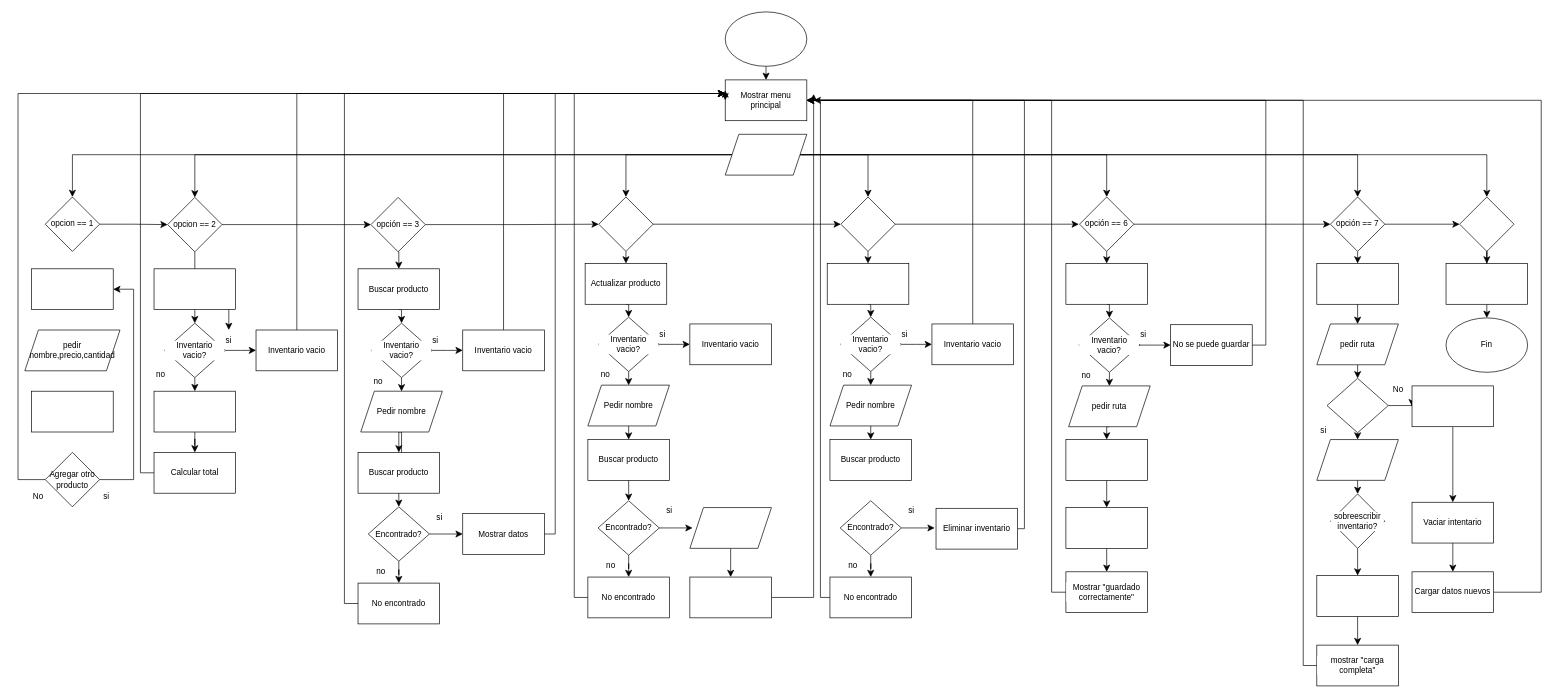
Image size: 1560x698. Some labels were removed from this diagram. The centre of each missing label's shape, as x and y in pixels:
"Actualizar" belongs at [730,597].
"Agregar a la lista" belongs at [72,411].
"Agregar producto" belongs at [72,289].
"Archivo valido?" belongs at [1357,405].
"Cargar inventario" belongs at [1357,283].
"Eliminar producto" belongs at [868,283].
"Error" belongs at [1452,406].
"Fusionar inventarios(sumar cantidad y precio)" belongs at [1357,595].
"Guardar CSV" belongs at [1106,527].
"Guardar inventario" belongs at [1106,283].
"Inicio" belongs at [766,38].
"Leer opcion del usuario" belongs at [766,154].
"Leer productos del CSV" belongs at [1357,459].
"Mostrar inventario" belongs at [194,289].
"opción == 4" belongs at [625,223].
"opción == 5" belongs at [867,223].
"opción == 8" belongs at [1486,223].
"pedir nuevos datos nombre/precio/cantidad" belongs at [730,527].
"Recorrer productos" belongs at [194,411].
"salir" belongs at [1486,283].
"Validar archivo" belongs at [1106,459].
